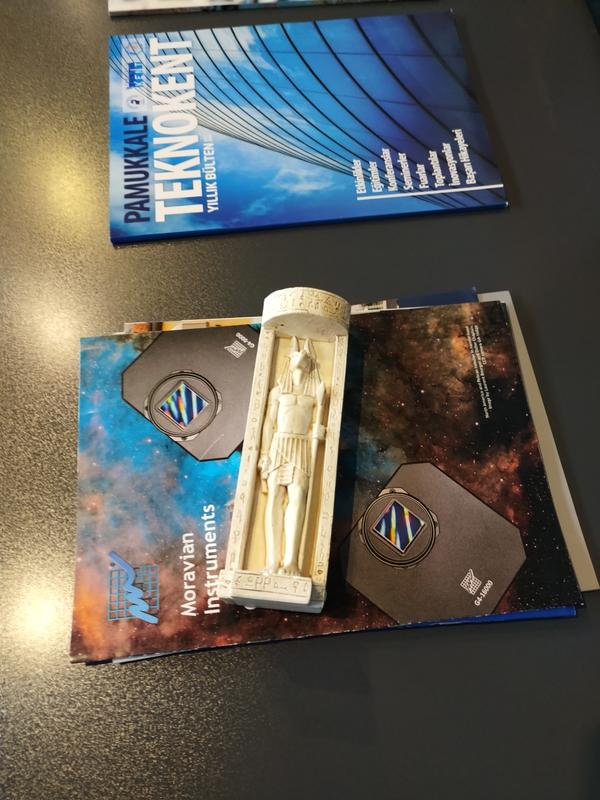heykel: (210, 279, 360, 630)
